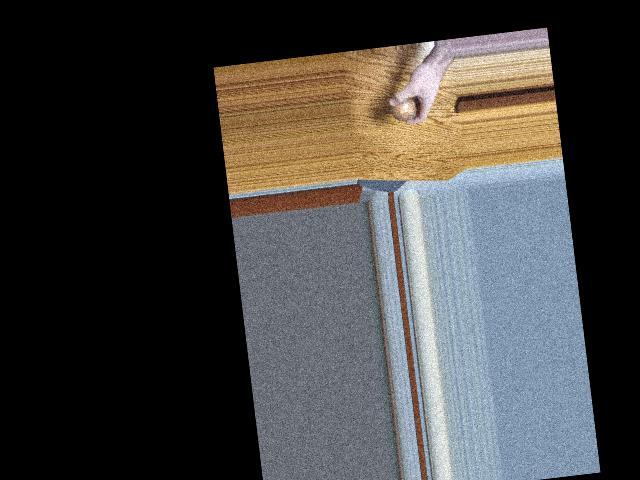onion: (390, 93, 417, 123)
